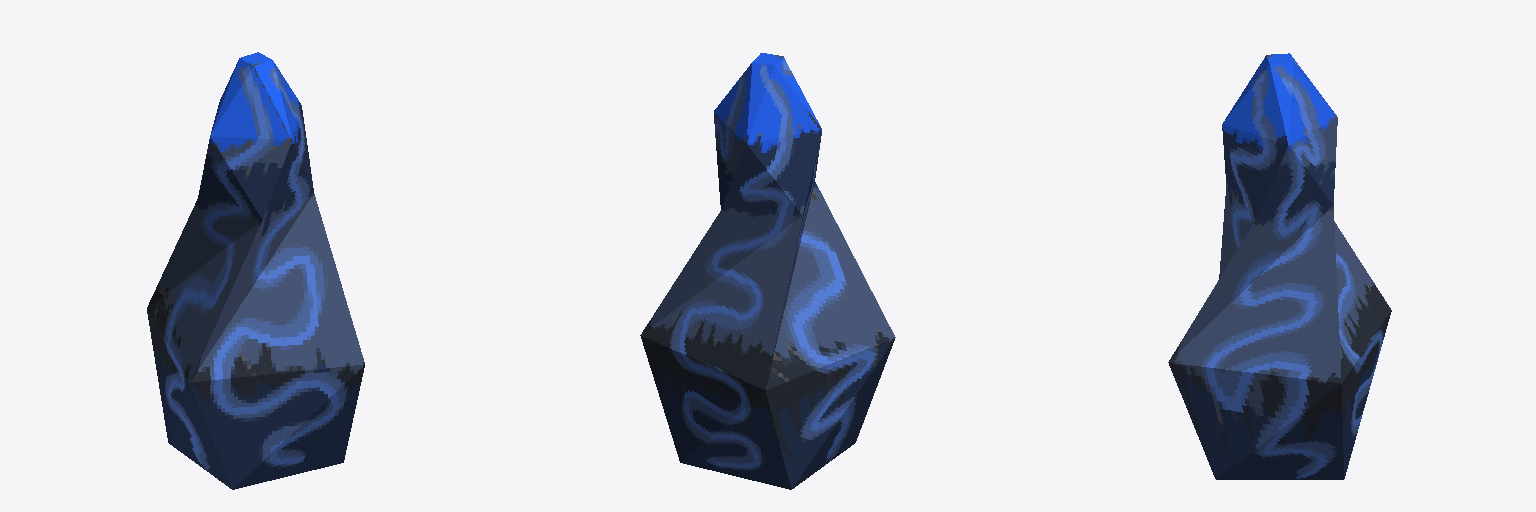
3 views of the same model, side by side, from view 1: azimuth 30°, elevation 25°; view 2: azimuth 150°, elevation 25°; view 3: azimuth 270°, elevation 25° (orthographic).
Visible parts, largest first — view 1: Textured_Obelisk; view 2: Textured_Obelisk; view 3: Textured_Obelisk.
Boxes of the visible parts, x1,y1,x2,y2 form: Textured_Obelisk: [147, 52, 364, 489]; Textured_Obelisk: [640, 53, 895, 489]; Textured_Obelisk: [1168, 53, 1391, 479].
Size of the model in its own units: 3.48 by 6.76 by 3.48.
Materials: 1 (1 with a texture image).